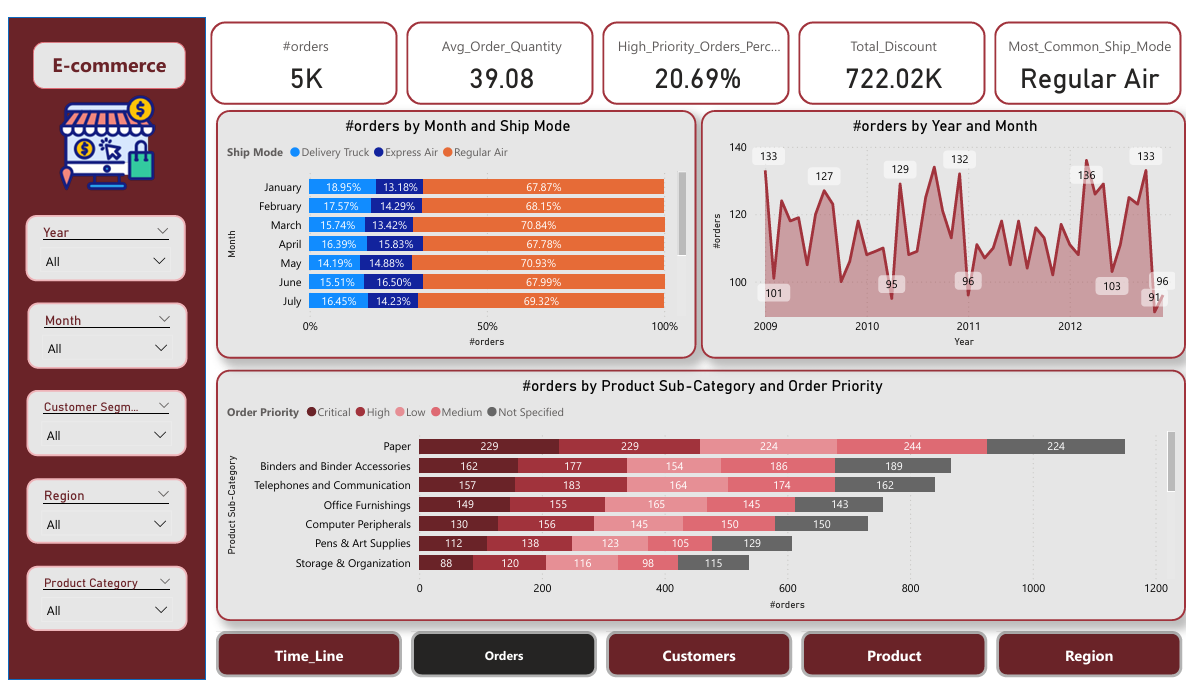

Layout of this report page (visuals, bound fields, positions):
{"tool":"powerbi","page":{"name":"Orders","canvas":[1280,720],"ordinal":1},"visuals":[{"type":"cardVisual","fields":{"Data":["Dax.#orders","Dax.Avg_Order_Quantity","Dax.High_Priority_Orders_Percentage","Dax.Total_Discount","Dax.Most_Common_Ship_Mode"]},"box":[215.4,0,1064.8,100.2],"z":0},{"type":"shape","box":[0,0,215.4,720.4],"z":1000},{"type":"textbox","box":[27.4,27.4,166,50.8],"z":2000},{"type":"slicer","fields":{"Values":["New folder.Year"]},"box":[19.2,215.4,174.3,71.4],"z":3000},{"type":"slicer","fields":{"Values":["New folder.Order Date.Variation.Date Hierarchy.Month"]},"box":[20.6,310.5,174.3,71.4],"z":4000},{"type":"slicer","fields":{"Values":["New folder.Customer Segment"]},"box":[19.6,405.5,174.3,71.4],"z":5000},{"type":"slicer","fields":{"Values":["New folder.Region"]},"box":[19.9,500.5,174.3,71.4],"z":6000},{"type":"slicer","fields":{"Values":["New folder.Product Category"]},"box":[20.2,595.5,174.3,71.4],"z":7000},{"type":"image","box":[0,78.2,215.4,116.6],"z":8000},{"type":"pageNavigator","box":[225.8,667.5,1054,49.1],"z":9000},{"type":"barChart","fields":{"Series":["New folder.Order Priority"],"Y":["Dax.#orders"],"Category":["New folder.Product Sub-Category"]},"box":[225.6,382.9,1054.6,273.3],"z":10000},{"type":"hundredPercentStackedBarChart","fields":{"Category":["New folder.Order Date.Variation.Date Hierarchy.Month"],"Y":["Dax.#orders"],"Series":["New folder.Ship Mode"]},"box":[225.8,100.6,522.7,269.9],"z":12000},{"type":"lineChart","fields":{"Y":["Dax.#orders"],"Category":["New folder.Order Date.Variation.Date Hierarchy.Year","New folder.Order Date.Variation.Date Hierarchy.Month"]},"box":[753.4,100.6,526.4,269.9],"z":12001}]}

Visuals, with their boxes in screenshot pixels (x1, y1, x2, y2), scaled from the page's 1280x720 canvas onto the 1197x686 screenshot:
cardVisual - Dax.#orders x Dax.Avg_Order_Quantity: <box>201,0,1196,95</box>
shape: <box>0,0,201,685</box>
textbox: <box>26,26,181,75</box>
slicer - New folder.Year: <box>18,205,181,273</box>
slicer - New folder.Order Date.Variation.Date Hierarchy.Month: <box>19,296,182,364</box>
slicer - New folder.Customer Segment: <box>18,386,181,454</box>
slicer - New folder.Region: <box>19,477,182,545</box>
slicer - New folder.Product Category: <box>19,567,182,635</box>
image: <box>0,75,201,186</box>
pageNavigator: <box>211,636,1196,683</box>
barChart - New folder.Order Priority x Dax.#orders: <box>211,365,1196,625</box>
hundredPercentStackedBarChart - New folder.Order Date.Variation.Date Hierarchy.Month x Dax.#orders: <box>211,96,700,353</box>
lineChart - Dax.#orders x New folder.Order Date.Variation.Date Hierarchy.Year: <box>705,96,1196,353</box>
